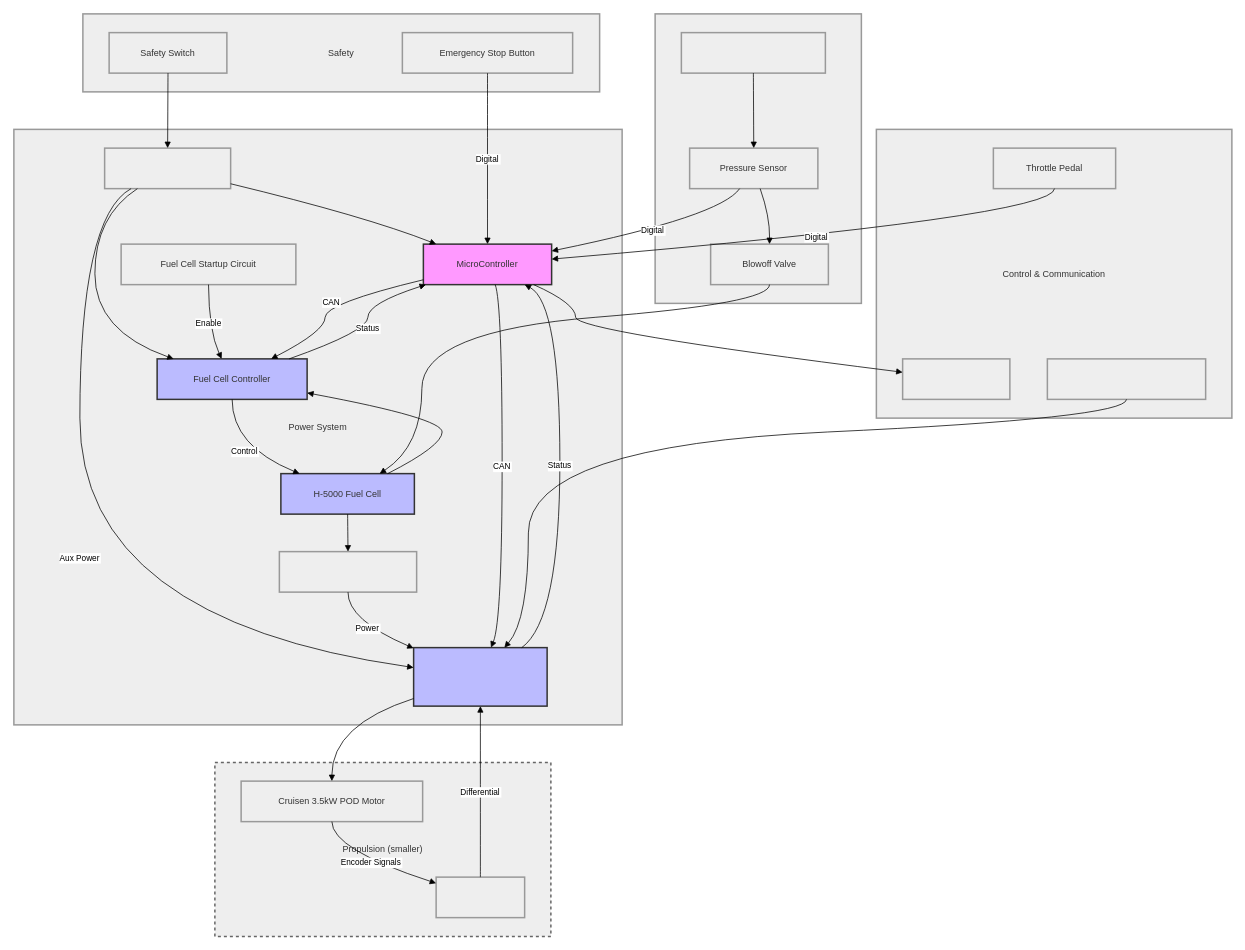
The diagram is 1245 pixels wide and 950 high, and some of its shapes have lost their labels. Each missing label, with the centre of its shape:
"DC/DC Converter" belongs at point (347, 571).
"Encoder" belongs at point (480, 897).
"Hydrogen Cylinder" belongs at point (753, 53).
"LCD Display" belongs at point (956, 379).
"Motor Control Switch" belongs at point (1126, 379).
"Sevcon Gen4 Motor Controller" belongs at point (480, 676).
"Starter Battery" belongs at point (167, 168).
